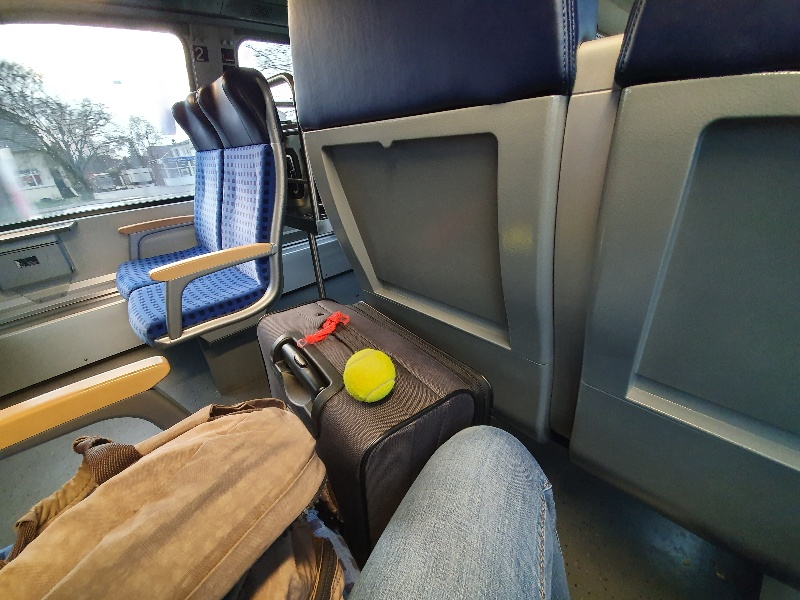Tennisball: (335, 347, 404, 409)
